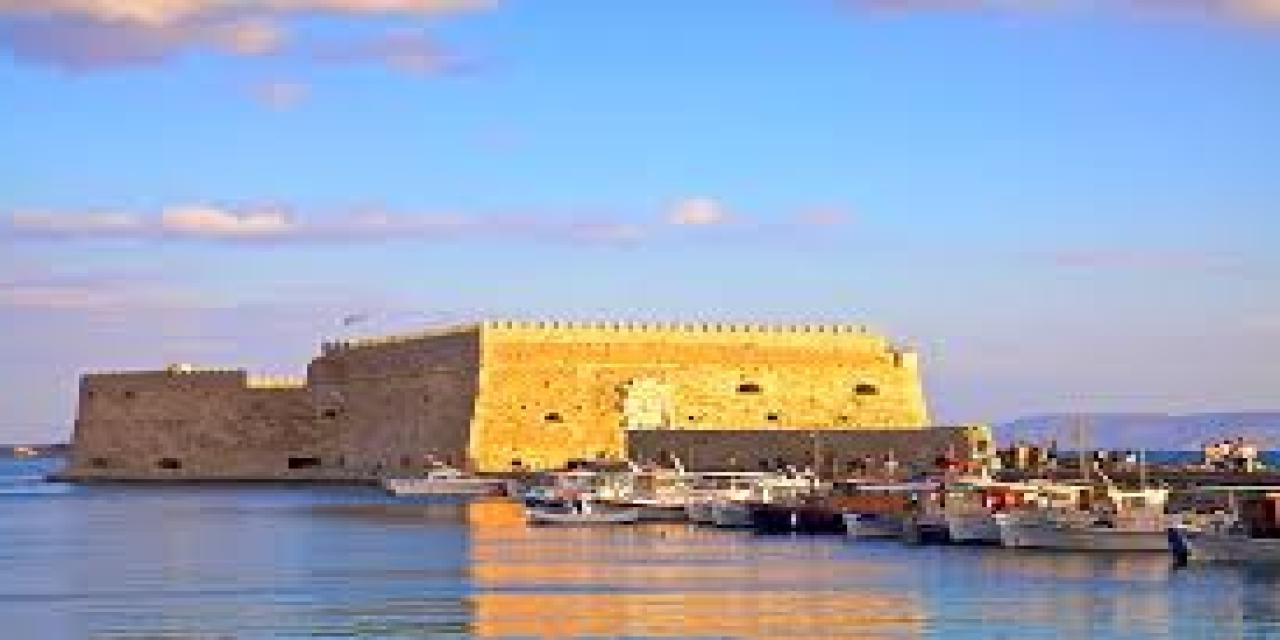Kules: (49, 326, 929, 488)
